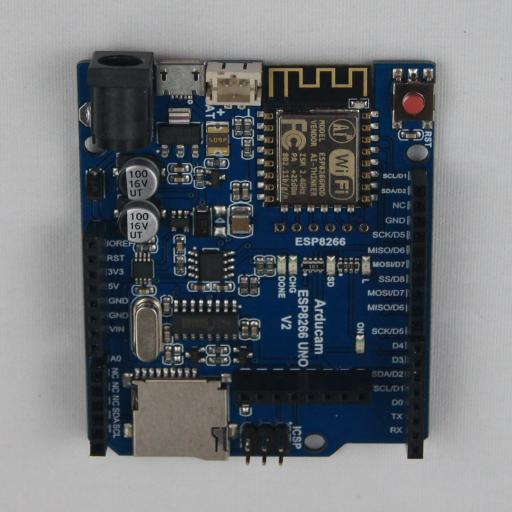Arduino Uno Camera Shield: (77, 51, 436, 463)
